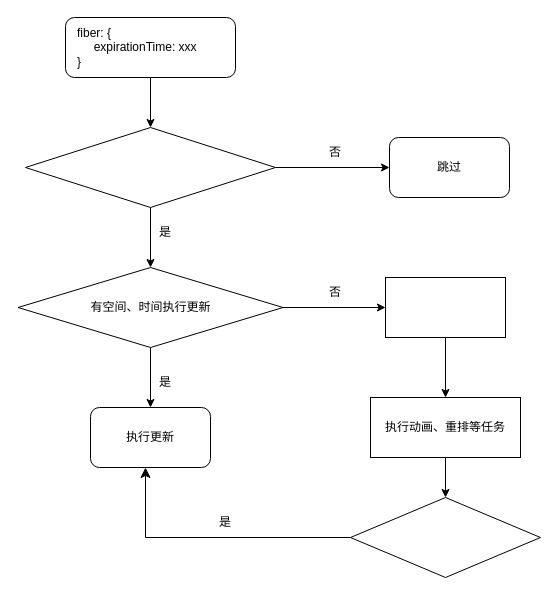
Some shapes in this 558 by 595 pixel diagram are drawn without their labels. Each missing label, with the centre of its shape:
"主动权交给浏览器" belongs at (445,307).
"根据expirationTime判断需要更新" belongs at (150,167).
"浏览器有空余时间" belongs at (445,537).
